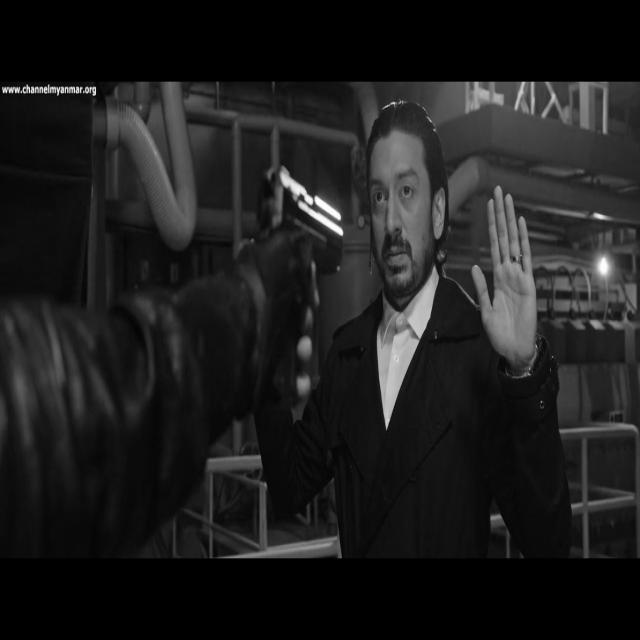gun: (260, 170, 343, 409)
